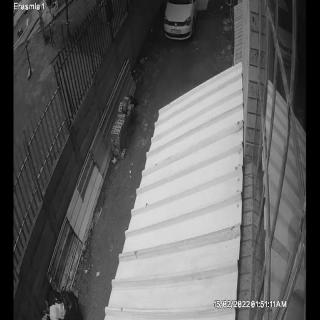car: (162, 0, 204, 40)
